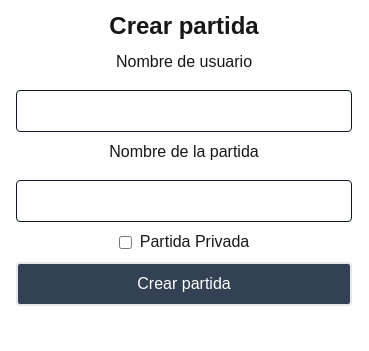
CreateGameForm › muestra un error si los campos están vacíos
Click the button "Crear partida" at x=184, y=284, box [16,262,352,306]
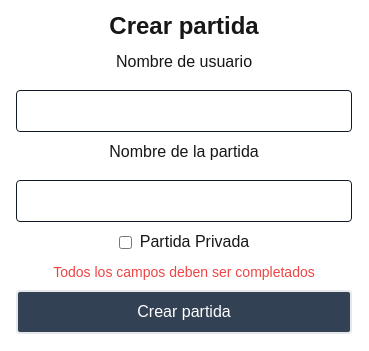
Check: the text "Todos los campos deben ser completados" is shown, box [53,262,315,282]
